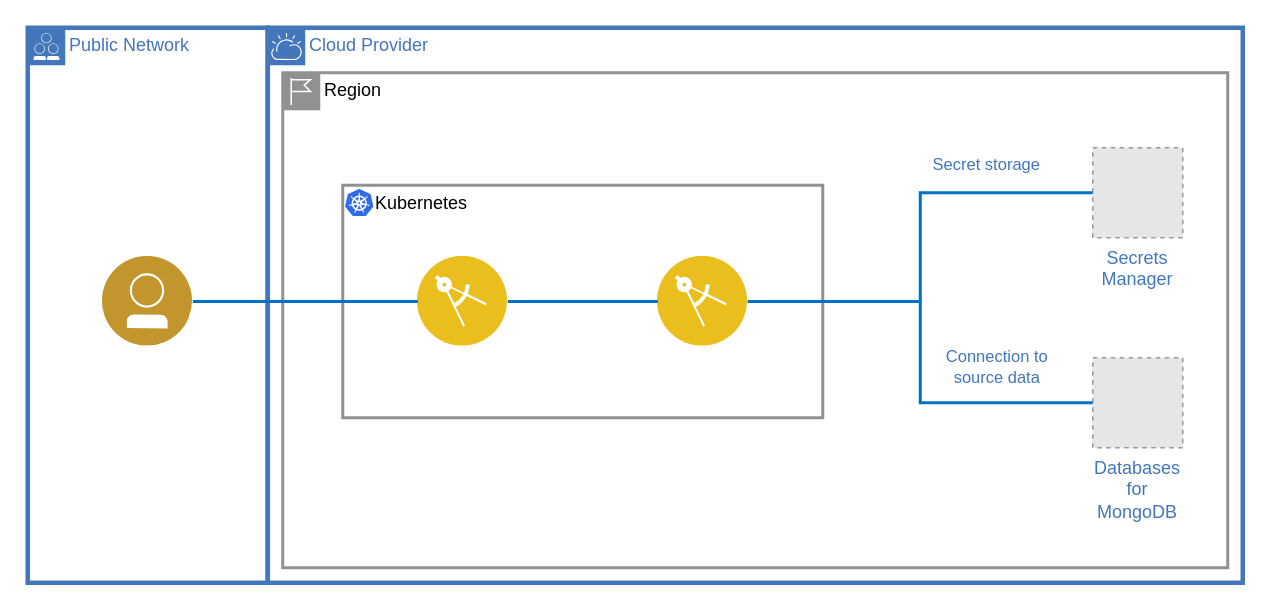
Image size: 1271x611. Some labels were removed from this diagram. Grey dashed boxes stand in for pictures. The centre of each missing label's shape, as x and y in pixels:
"Back-end" belongs at (x=702, y=301).
"End-User" belongs at (x=147, y=301).
"Front-end" belongs at (x=462, y=301).
